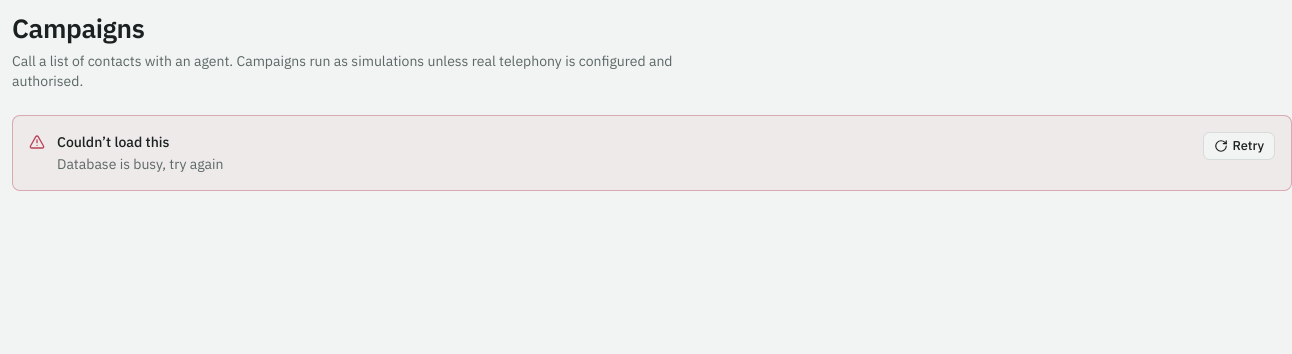
Test: CampaignsPage data states › shows the API error and recovers on retry
This screenshot has width=1292, height=354.
Expected: the message shows "Couldn’t load this", [57,133,169,151]
Expected: the message shows "Database is busy, try again", [57,155,224,173]
Click the button "Retry" at (1239, 146), box [1203,132,1275,160]
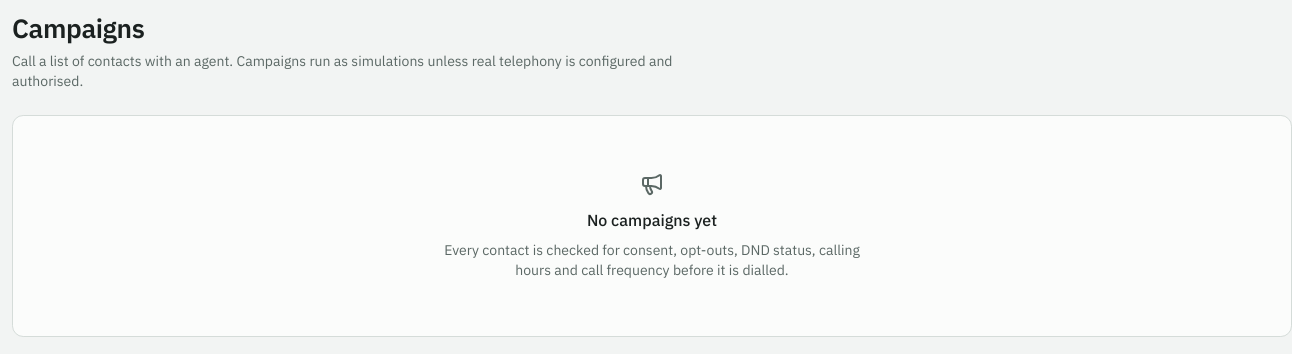
Expected: the text "No campaigns yet" is shown, [587,208,717,232]
Expected: the message "Couldn’t load this Database is busy, try again Retry" is gone
